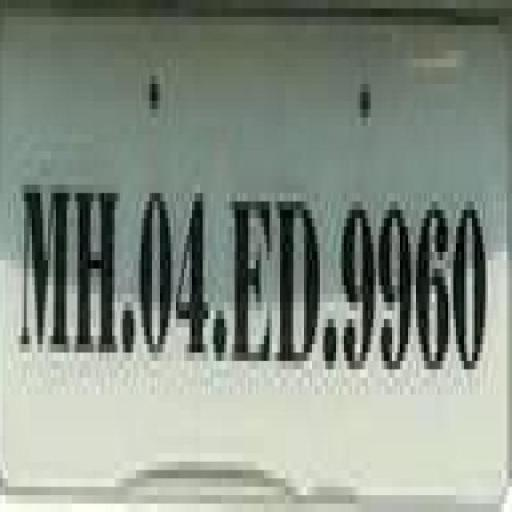number plate: (0, 25, 486, 462)
